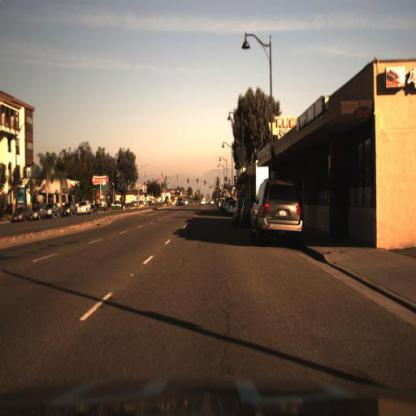car: (252, 177, 306, 254), (74, 196, 95, 218), (12, 205, 33, 225), (30, 204, 48, 223), (43, 199, 59, 219), (60, 204, 76, 221), (31, 207, 49, 220)
